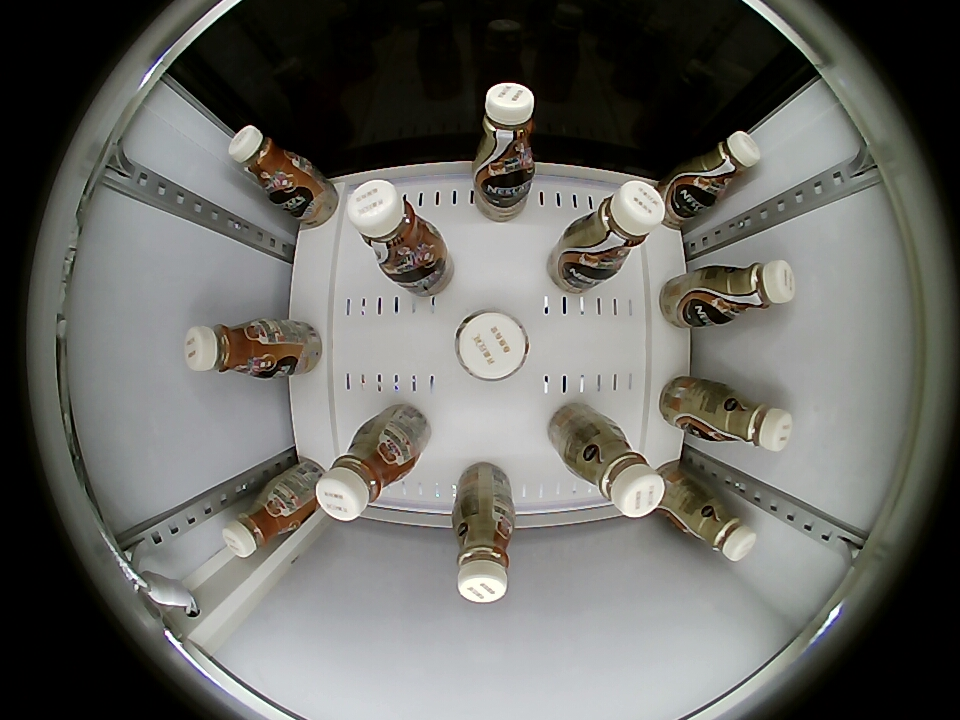kafei: (567, 179, 666, 277), (347, 178, 442, 277), (316, 428, 409, 522), (572, 426, 665, 519), (472, 82, 537, 187), (453, 500, 515, 603), (670, 489, 757, 562), (678, 130, 761, 204), (222, 487, 308, 558), (703, 260, 796, 325), (228, 125, 307, 201), (703, 390, 793, 452), (454, 309, 530, 382), (184, 319, 275, 379)
